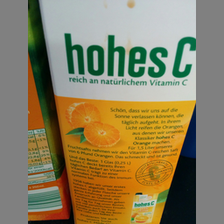juice: (38, 1, 197, 224)
